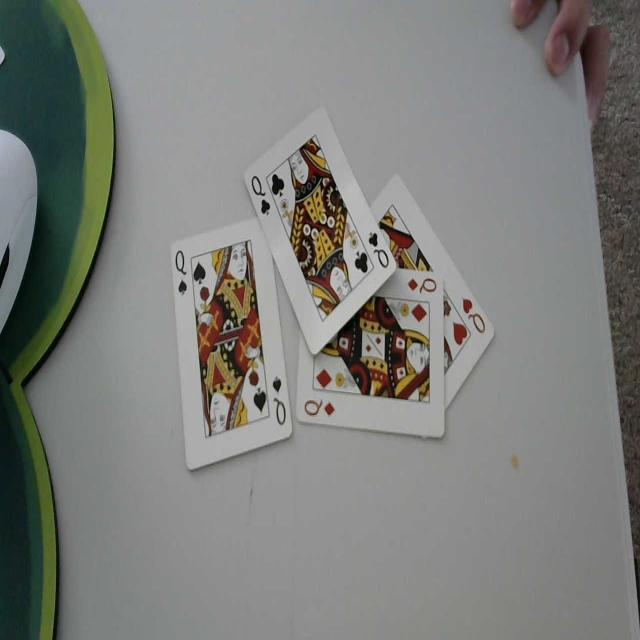QC: (366, 227, 390, 274), (249, 174, 272, 220)
QD: (304, 397, 336, 419), (407, 273, 437, 296)
QH: (460, 293, 488, 337)
QS: (271, 373, 288, 430), (175, 247, 188, 298)
